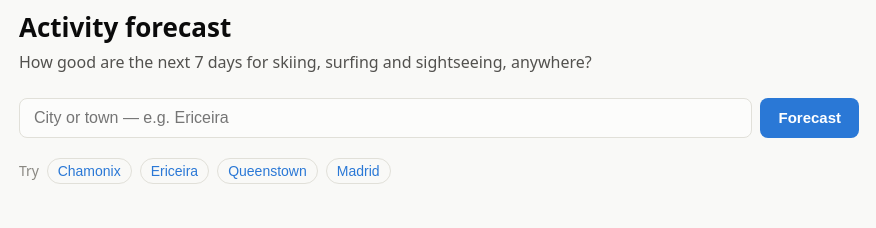
Test: an unknown place is an expected state, not an error banner
The width and height of the screenshot is (876, 228).
Type "xyzzyqwert" into the field labelled "City or town".
click(386, 118); type("xyzzyqwert")  # box [19,98,752,138]
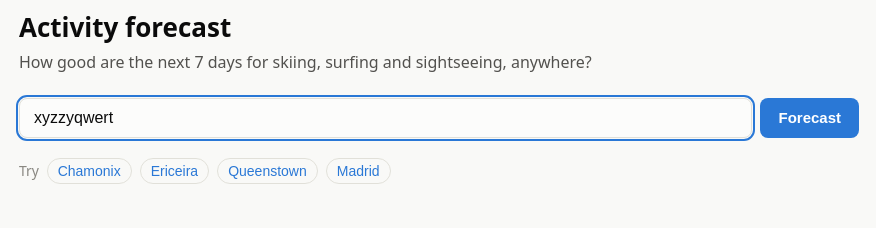
Click the button "Forecast".
click(810, 118)  # box [760,98,859,138]
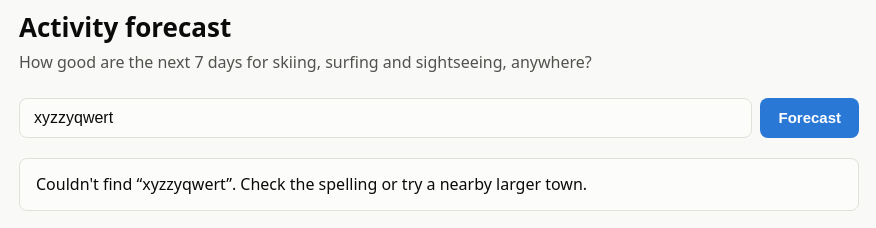
expect the text "Couldn't find" shows "xyzzyqwert": met, box [142,173,226,195]
